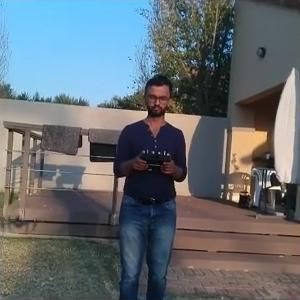follow: (112, 68, 196, 298)
